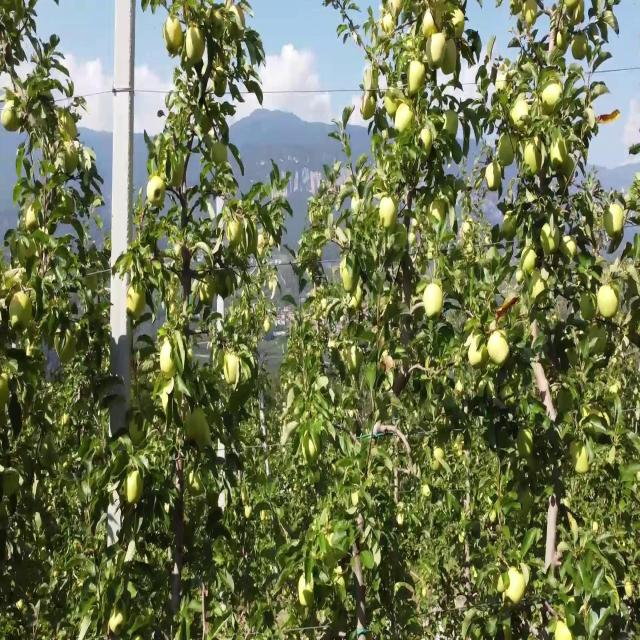apple: (504, 568, 527, 608), (12, 291, 33, 332), (488, 334, 511, 368), (424, 284, 444, 322), (164, 21, 184, 57), (600, 284, 620, 320), (380, 199, 400, 235), (524, 142, 544, 178), (556, 156, 576, 192), (544, 85, 564, 119), (188, 28, 206, 64), (440, 42, 458, 78), (408, 63, 426, 98), (580, 291, 599, 324), (468, 341, 488, 372), (512, 99, 530, 133), (128, 284, 147, 316), (604, 206, 624, 236), (148, 177, 167, 208), (128, 469, 144, 505), (544, 220, 560, 256), (64, 142, 80, 178), (340, 263, 359, 293), (500, 135, 516, 169), (196, 419, 212, 453), (228, 7, 245, 39), (304, 433, 321, 464), (188, 412, 206, 441), (572, 447, 590, 476), (520, 426, 535, 460), (432, 35, 446, 71), (132, 291, 147, 324), (4, 106, 21, 135), (160, 348, 177, 377), (396, 106, 414, 133), (552, 142, 568, 171), (228, 220, 244, 249), (224, 355, 240, 384), (200, 277, 216, 306), (4, 469, 20, 498), (208, 7, 225, 34), (488, 163, 503, 192), (572, 35, 587, 64), (132, 419, 147, 448), (212, 142, 228, 169), (560, 234, 576, 261), (560, 156, 576, 183), (60, 120, 79, 142), (532, 277, 547, 304), (448, 14, 465, 37), (444, 113, 460, 137), (424, 14, 438, 41), (556, 618, 574, 639), (524, 248, 537, 277), (420, 127, 432, 158), (628, 314, 640, 345), (432, 199, 448, 222), (172, 163, 185, 190), (352, 284, 364, 313), (504, 213, 516, 242), (200, 113, 214, 137), (524, 7, 540, 28), (388, 92, 400, 119), (216, 71, 228, 98), (0, 376, 10, 407), (20, 241, 34, 263), (112, 611, 125, 633), (556, 35, 570, 55), (188, 412, 197, 443), (28, 206, 39, 231), (364, 99, 376, 121), (384, 14, 396, 36), (432, 447, 444, 469), (500, 85, 512, 107), (216, 270, 225, 297), (224, 277, 236, 297), (392, 0, 404, 20), (376, 113, 388, 130), (192, 476, 201, 498), (176, 383, 185, 405), (576, 7, 585, 27), (188, 421, 196, 443), (624, 583, 634, 599), (184, 7, 194, 21), (264, 319, 272, 334), (456, 383, 464, 398), (460, 42, 468, 55), (512, 7, 522, 16), (520, 270, 525, 284), (332, 341, 339, 350)
